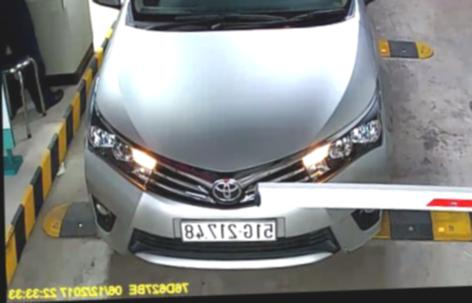License_Plate: (179, 212, 281, 249)
